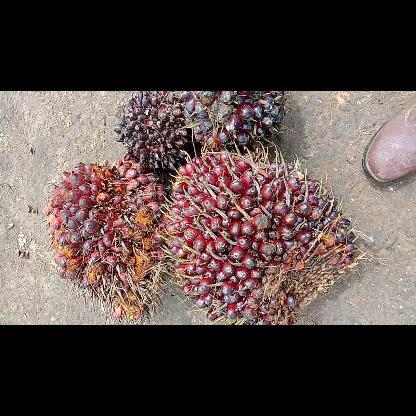Kurang masak: (158, 150, 362, 324), (182, 92, 288, 152)
TBS abnormal: (111, 92, 191, 172)
TBS masak: (41, 158, 167, 324)
